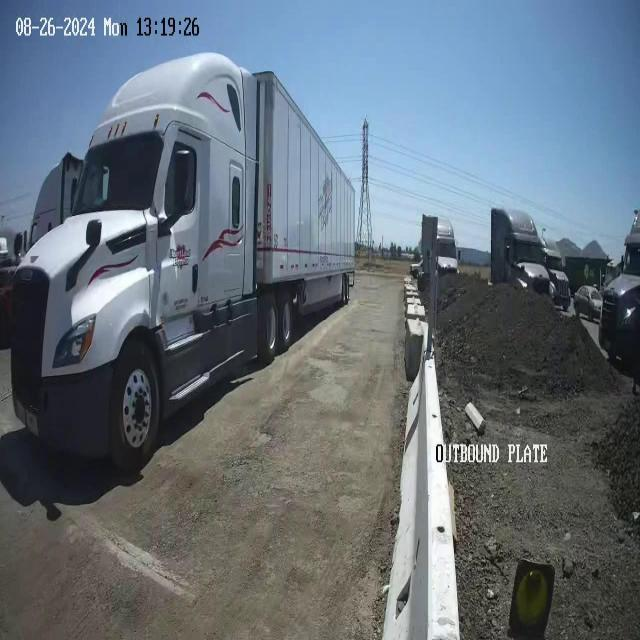TRUCK_OUT: (9, 51, 357, 473)
